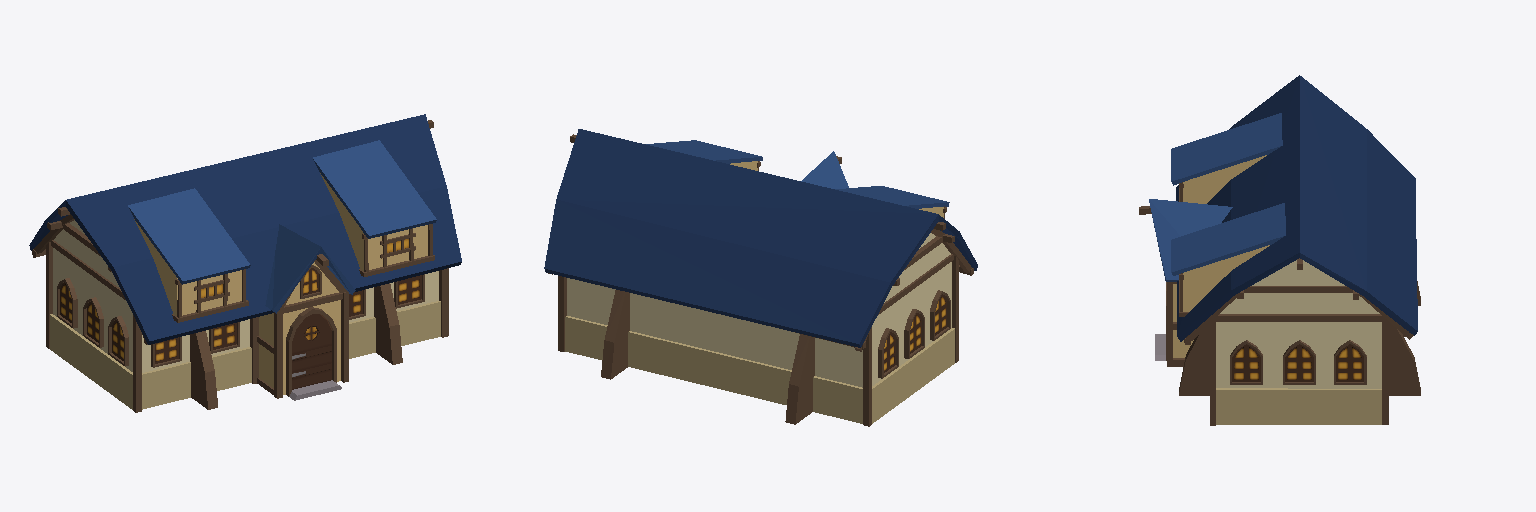
3 views of the same model, side by side, from view 1: azimuth 30°, elevation 25°; view 2: azimuth 150°, elevation 25°; view 3: azimuth 270°, elevation 25° (orthographic).
Visible parts, largest first — view 1: SFMC_geo12438 Main_grp; view 2: SFMC_geo12438 Main_grp; view 3: SFMC_geo12438 Main_grp.
Part boxes in pixels (x1,y1,x2,y2): SFMC_geo12438 Main_grp: (29, 114, 461, 412); SFMC_geo12438 Main_grp: (544, 129, 977, 426); SFMC_geo12438 Main_grp: (1139, 75, 1420, 425).
Bounding box in the file's own units: 247 × 118 × 162.
Materials: 1 (1 with a texture image).